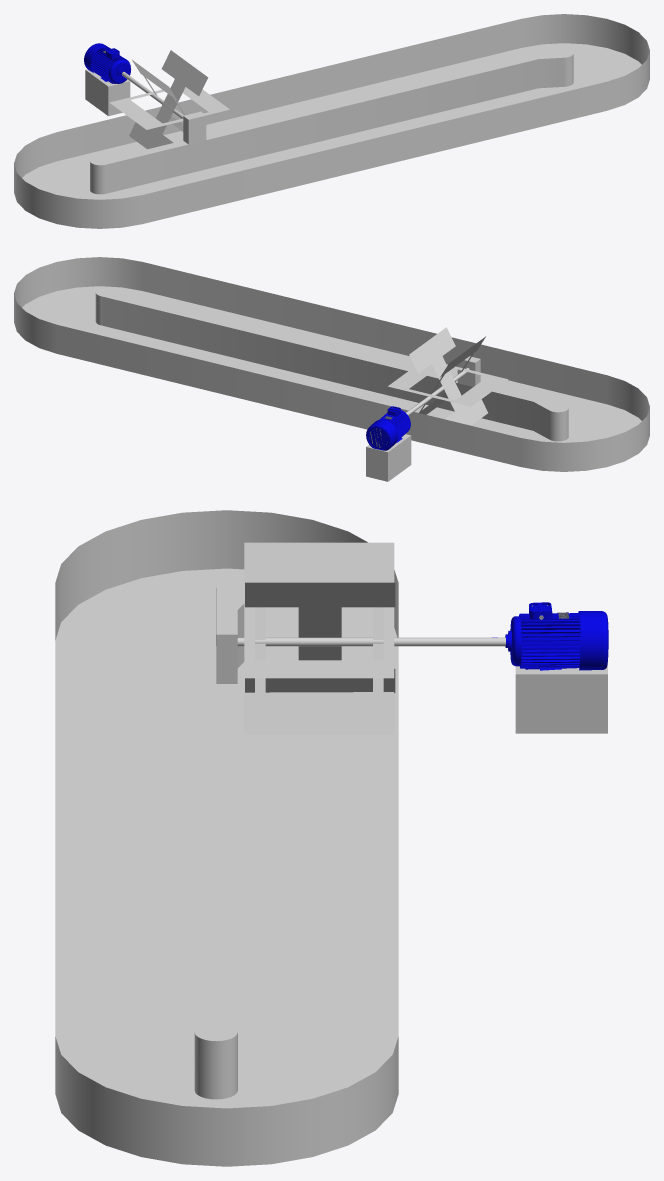
The model's file is opond.gltf.
3 renders of one model, top to bottom at view 1: azimuth 30°, elevation 25°; view 2: azimuth 150°, elevation 25°; view 3: azimuth 270°, elevation 25°, orthographic. The views are drawn at different scales.
Visible parts, largest first — view 1: 3DGeom-5, Assembly-9, 3DGeom-4, 3DGeom-2, 3DGeom-6, 3DGeom-3; view 2: 3DGeom-5, Assembly-9, 3DGeom-4, 3DGeom-2, 3DGeom-6, 3DGeom-3; view 3: 3DGeom-5, 3DGeom-3, Assembly-9, 3DGeom-4, 3DGeom-6, 3DGeom-2.
Part boxes in pixels (x1,y1,x2,y2): 3DGeom-5: (14,14,649,228); Assembly-9: (85,69,206,144); 3DGeom-4: (129,50,208,149); 3DGeom-2: (109,87,229,129); 3DGeom-6: (84,43,130,83); 3DGeom-3: (132,60,185,131); 3DGeom-5: (14,257,649,471); Assembly-9: (366,356,480,481); 3DGeom-4: (409,327,487,425); 3DGeom-2: (388,364,508,406); 3DGeom-6: (366,406,410,450); 3DGeom-3: (419,336,485,414); 3DGeom-5: (55,510,398,1166); 3DGeom-3: (244,542,394,734); Assembly-9: (216,617,607,733); 3DGeom-4: (245,582,395,693); 3DGeom-6: (492,602,608,670); 3DGeom-2: (244,597,394,678).
Bounding box in the file's own units: 6.6 × 0.8751 × 2.58.
Materials: 8 (1 with a texture image).
